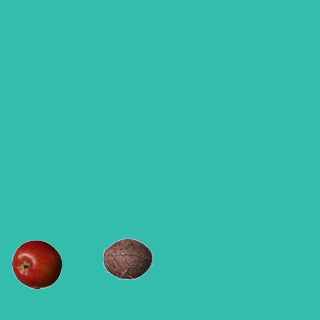Apple Braeburn: (11, 239, 61, 289)
Cocos: (102, 233, 152, 283)
